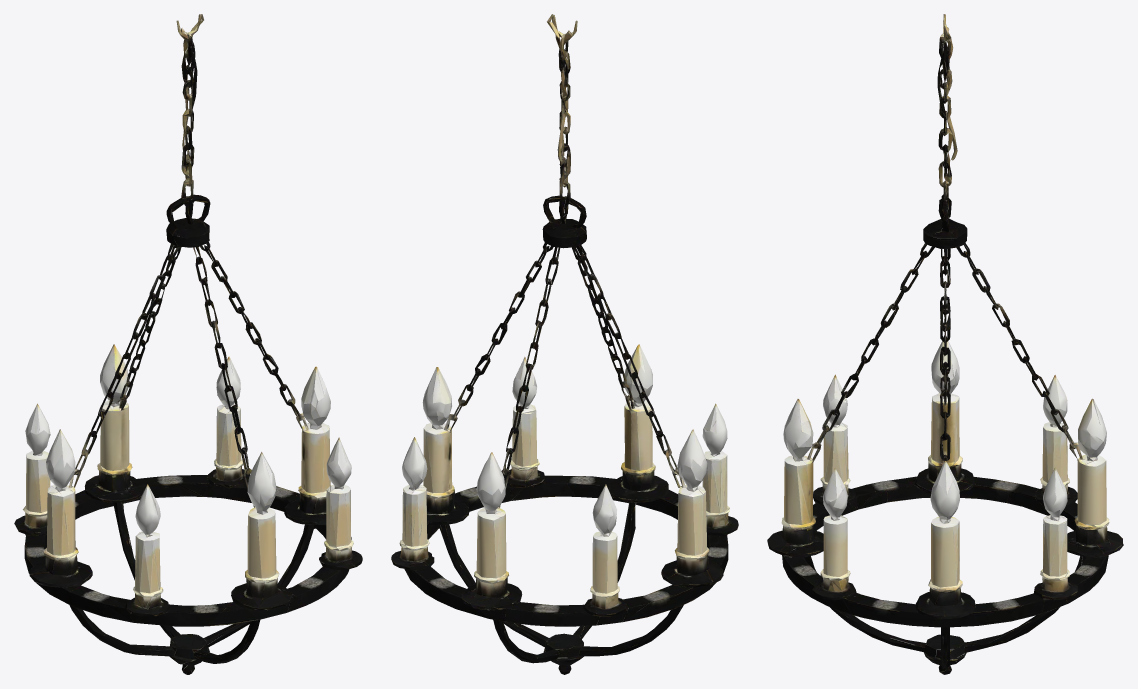
File: pendant_lamp.glb
The picture shows the model from 3 angles, left to right: view 1: azimuth 30°, elevation 25°; view 2: azimuth 150°, elevation 25°; view 3: azimuth 270°, elevation 25°; orthographic projection.
Size of the model in its own units: 0.9253 by 1.88 by 0.9256.
1 material, 1 textured.
